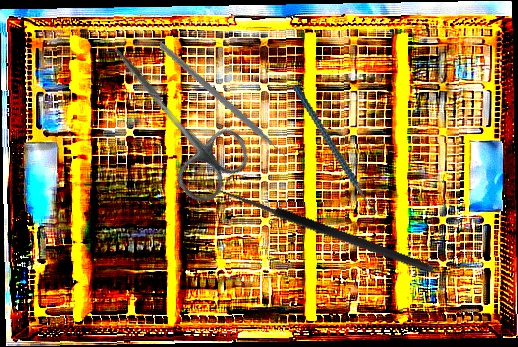Chopper: (141, 41, 304, 173), (293, 72, 386, 229)
Hook Surgical: (204, 182, 435, 285)
Iris Scissors: (84, 24, 259, 210)
